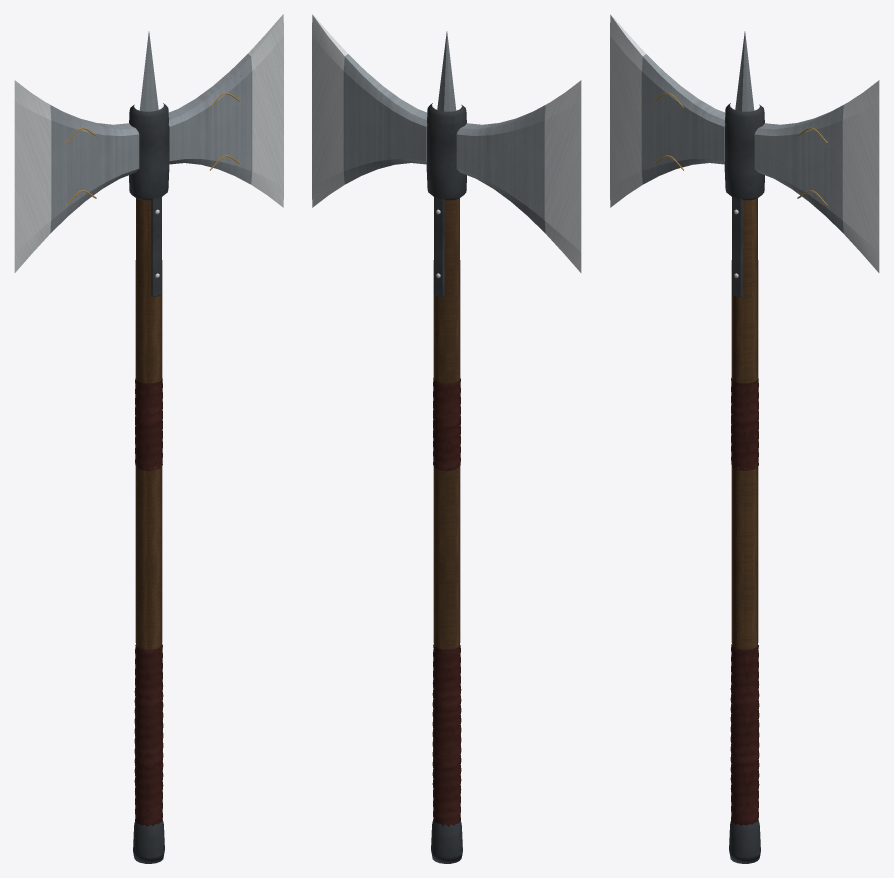
File: great-axe.lod1.glb
The picture shows the model from 3 angles, left to right: view 1: azimuth 30°, elevation 25°; view 2: azimuth 150°, elevation 25°; view 3: azimuth 330°, elevation 25°; orthographic projection.
Parts seen in each view (by area): view 1: steel / forged blade steel, edge / honed bright bevel, wood / oiled hardwood, leather / oiled leather wrap, darksteel / oil-blackened fittings; view 2: steel / forged blade steel, edge / honed bright bevel, wood / oiled hardwood, leather / oiled leather wrap, darksteel / oil-blackened fittings; view 3: steel / forged blade steel, edge / honed bright bevel, wood / oiled hardwood, leather / oiled leather wrap, darksteel / oil-blackened fittings.
Part boxes in pixels (box(x1,y1,x2,y2)): steel / forged blade steel: box(47, 31, 252, 233); edge / honed bright bevel: box(14, 14, 283, 277); wood / oiled hardwood: box(135, 197, 162, 649); leather / oiled leather wrap: box(134, 378, 163, 826); darksteel / oil-blackened fittings: box(129, 103, 169, 863); steel / forged blade steel: box(343, 31, 548, 233); edge / honed bright bevel: box(312, 14, 581, 277); wood / oiled hardwood: box(433, 197, 460, 649); leather / oiled leather wrap: box(432, 378, 461, 826); darksteel / oil-blackened fittings: box(426, 103, 466, 863); steel / forged blade steel: box(641, 31, 846, 233); edge / honed bright bevel: box(610, 14, 879, 277); wood / oiled hardwood: box(731, 197, 758, 649); leather / oiled leather wrap: box(730, 378, 759, 825); darksteel / oil-blackened fittings: box(724, 103, 764, 863).
Size of the model in its own units: 0.4507 by 1.32 by 0.0554.
Materials: 6 (6 with a texture image).
